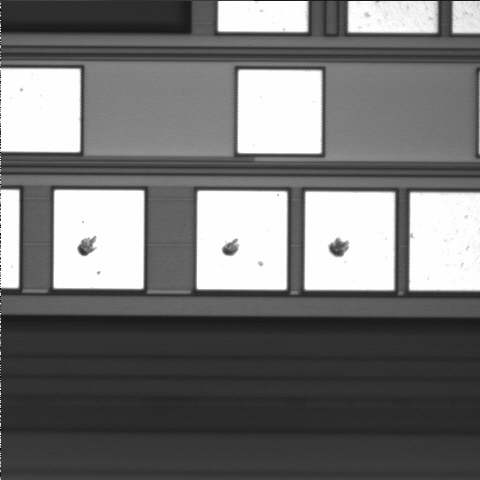pad: (54, 190, 144, 289), (197, 191, 287, 290), (305, 192, 395, 290), (238, 70, 322, 153)
